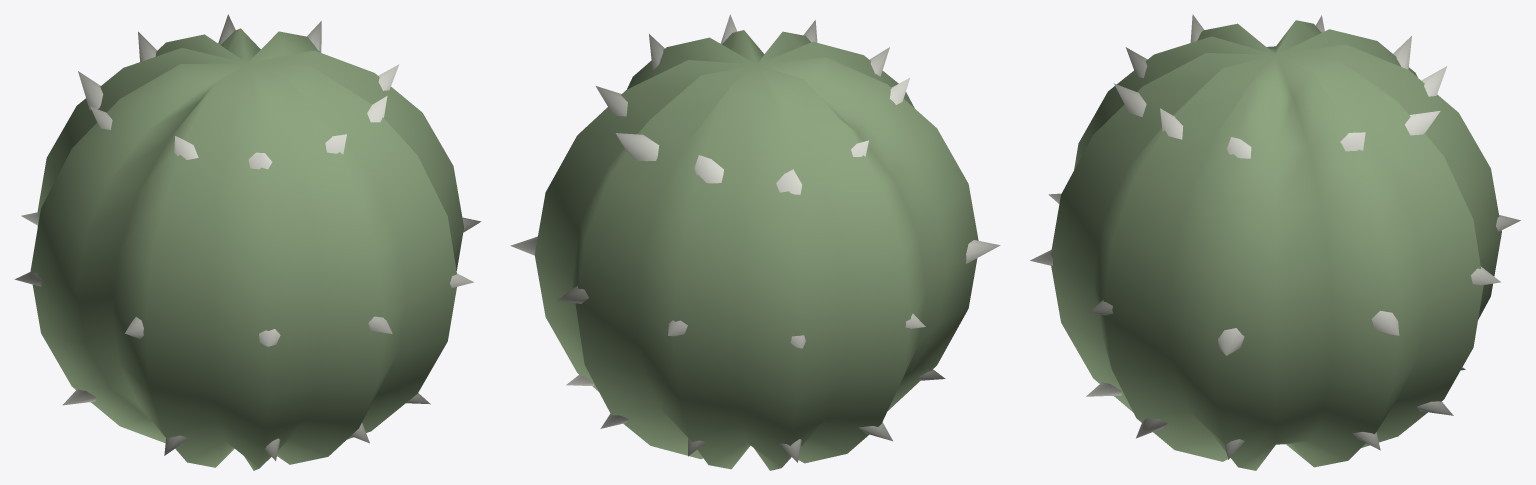
Rendered from Cactus.fbx.
3 views of the same model, side by side, from view 1: azimuth 30°, elevation 25°; view 2: azimuth 150°, elevation 25°; view 3: azimuth 270°, elevation 25° (orthographic). The views are drawn at different scales.
Visible parts, largest first — view 1: tree:Cactus; view 2: tree:Cactus; view 3: tree:Cactus.
Part boxes in pixels (bbox=[...]): tree:Cactus: bbox=[14, 14, 481, 470]; tree:Cactus: bbox=[510, 14, 1000, 470]; tree:Cactus: bbox=[1030, 14, 1520, 470].
Bounding box in the file's own units: 58.94 × 52.68 × 59.68.
